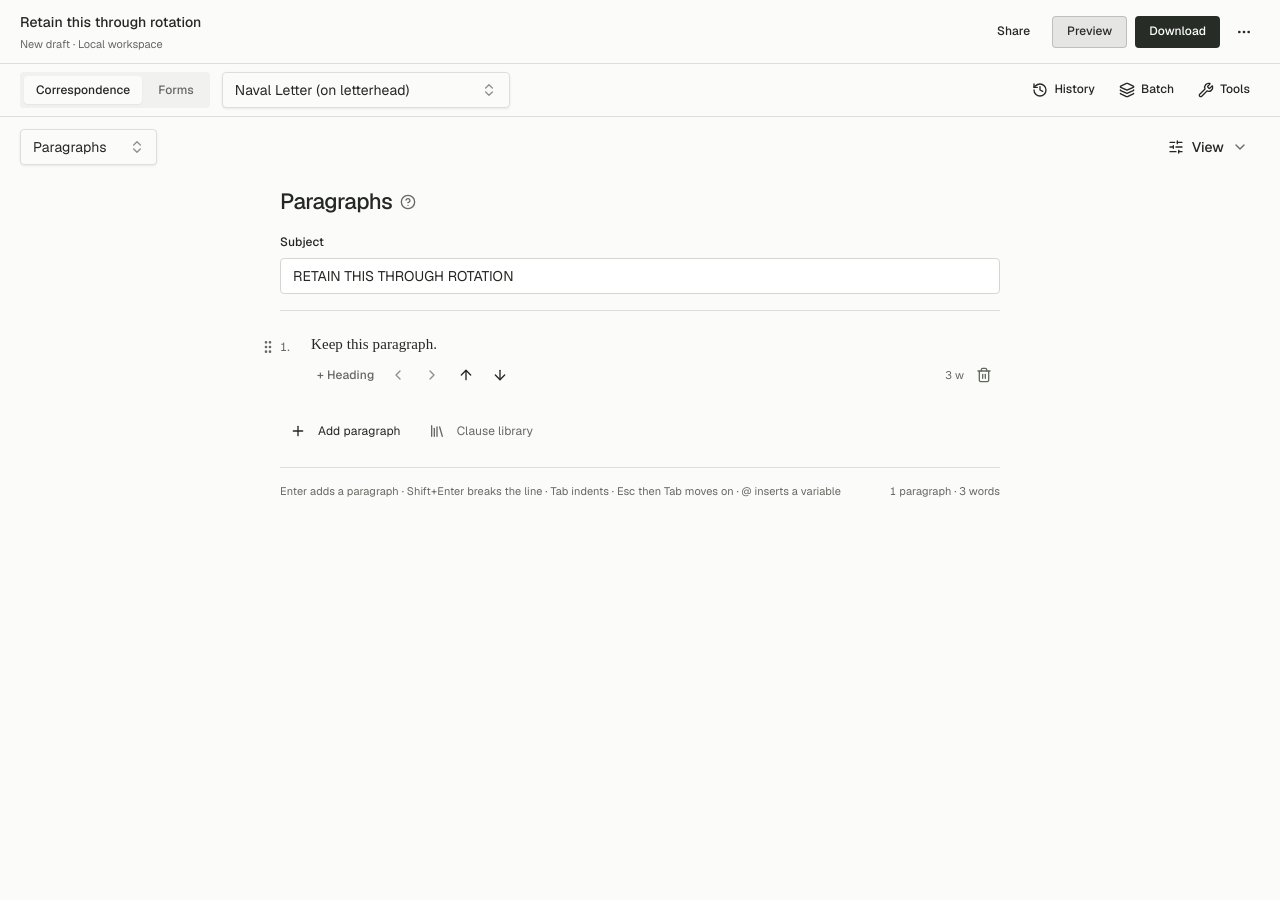
Test: focused workspace editor › preserves edits and mounted fields while Contents changes the visible section
Replace the text in the field labelled "Subject" with "APPOINTMENT" at (640, 276), box x1=280 y1=258 x2=1000 y2=294
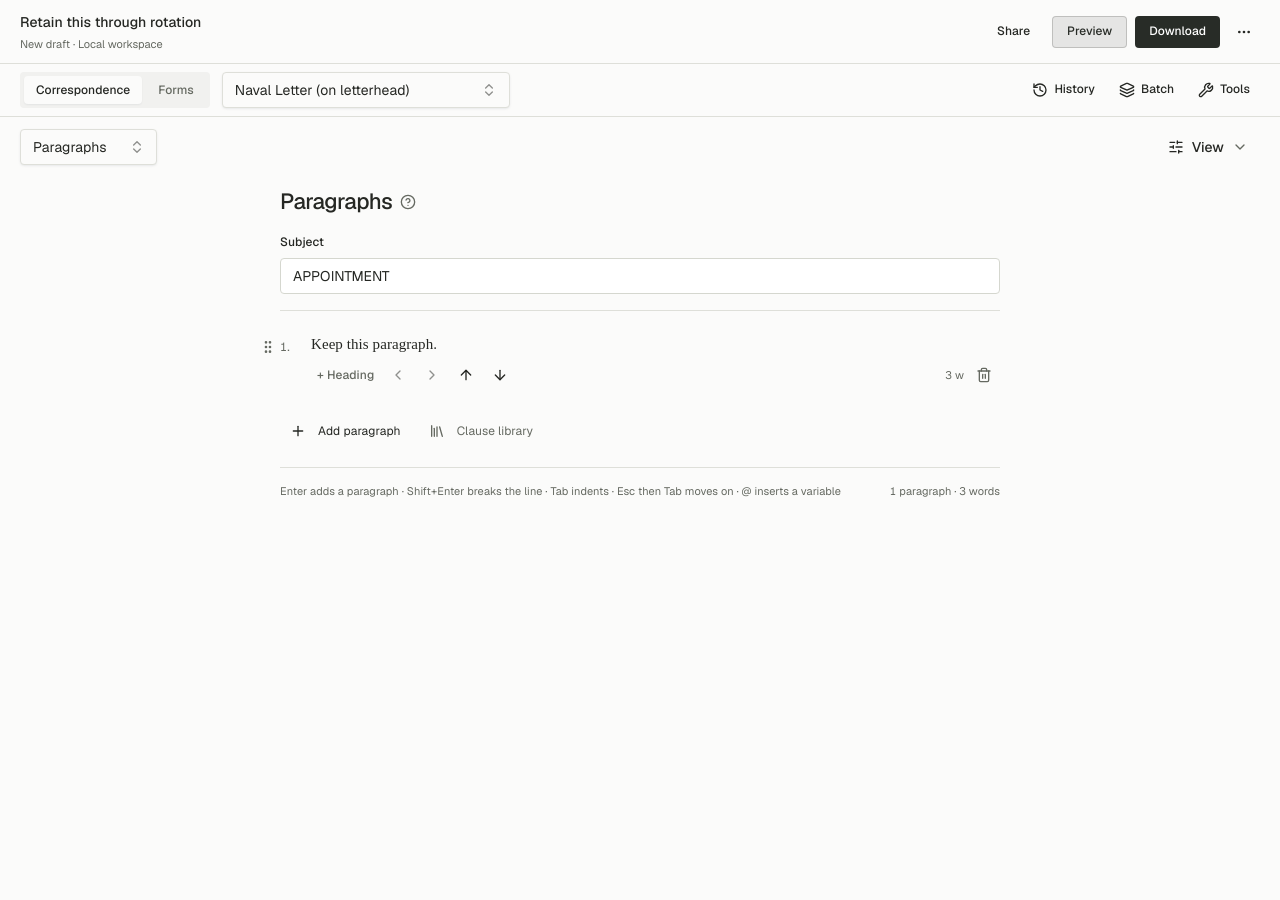
Select "Signature" in the dropdown named "Document section" at (88, 147), box x1=20 y1=129 x2=157 y2=165
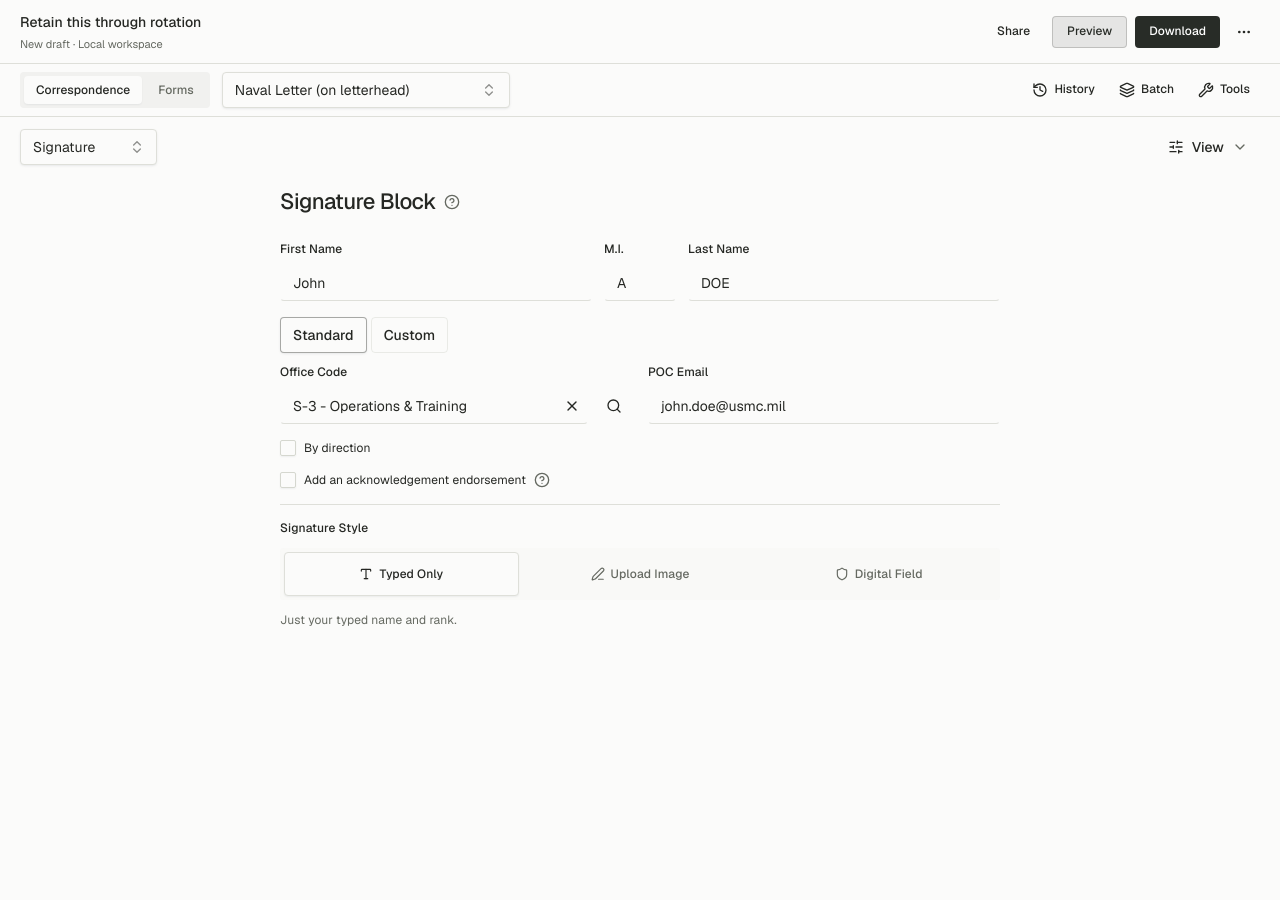
Expected: the label "Subject" is gone
Expected: the field labelled "First Name" is shown, x1=280 y1=265 x2=592 y2=301
Select "Paragraphs" in the dropdown named "Document section" at (88, 147), box x1=20 y1=129 x2=157 y2=165
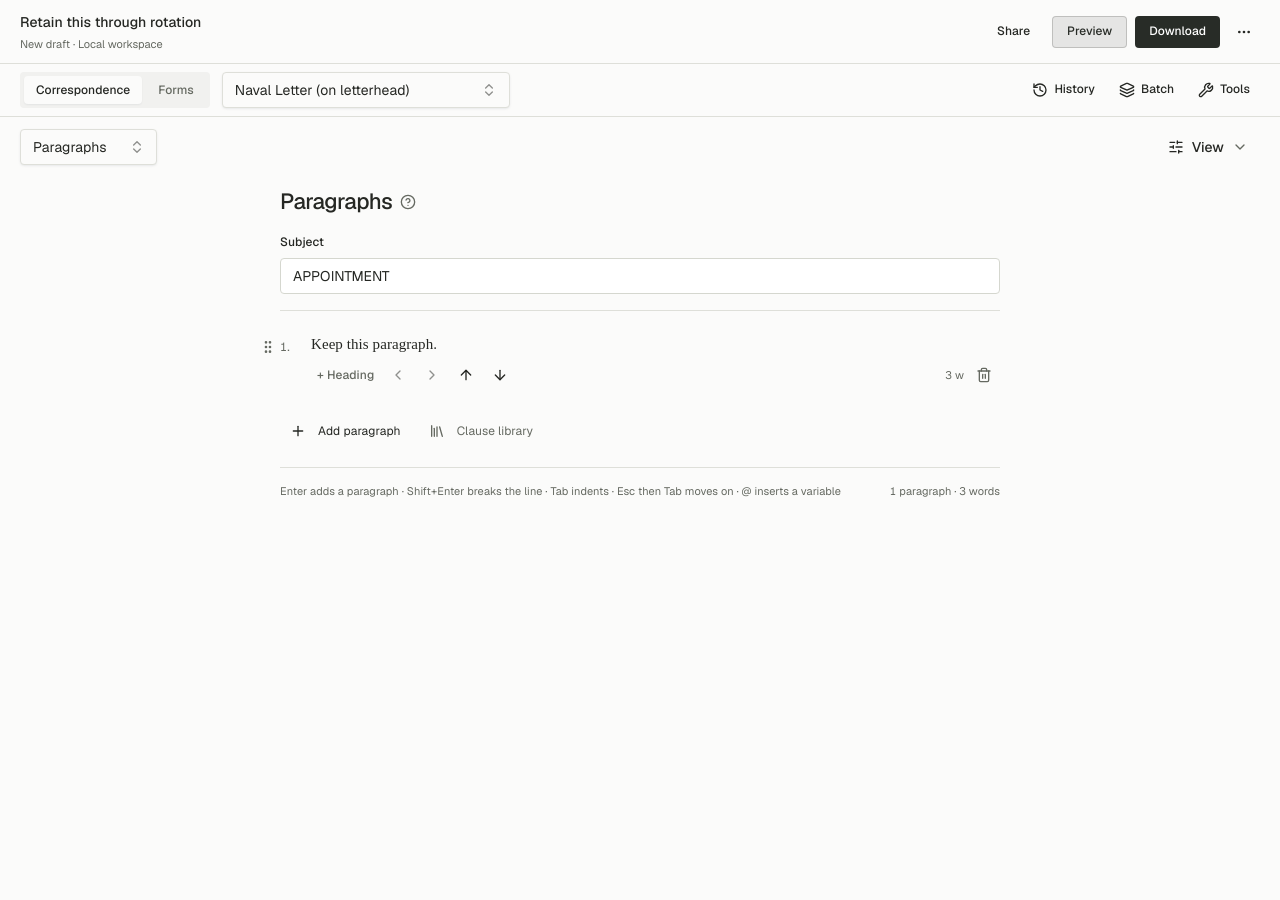
Expected: the field named "Paragraph 1" reads "Keep this paragraph.", x1=311 y1=336 x2=437 y2=352
